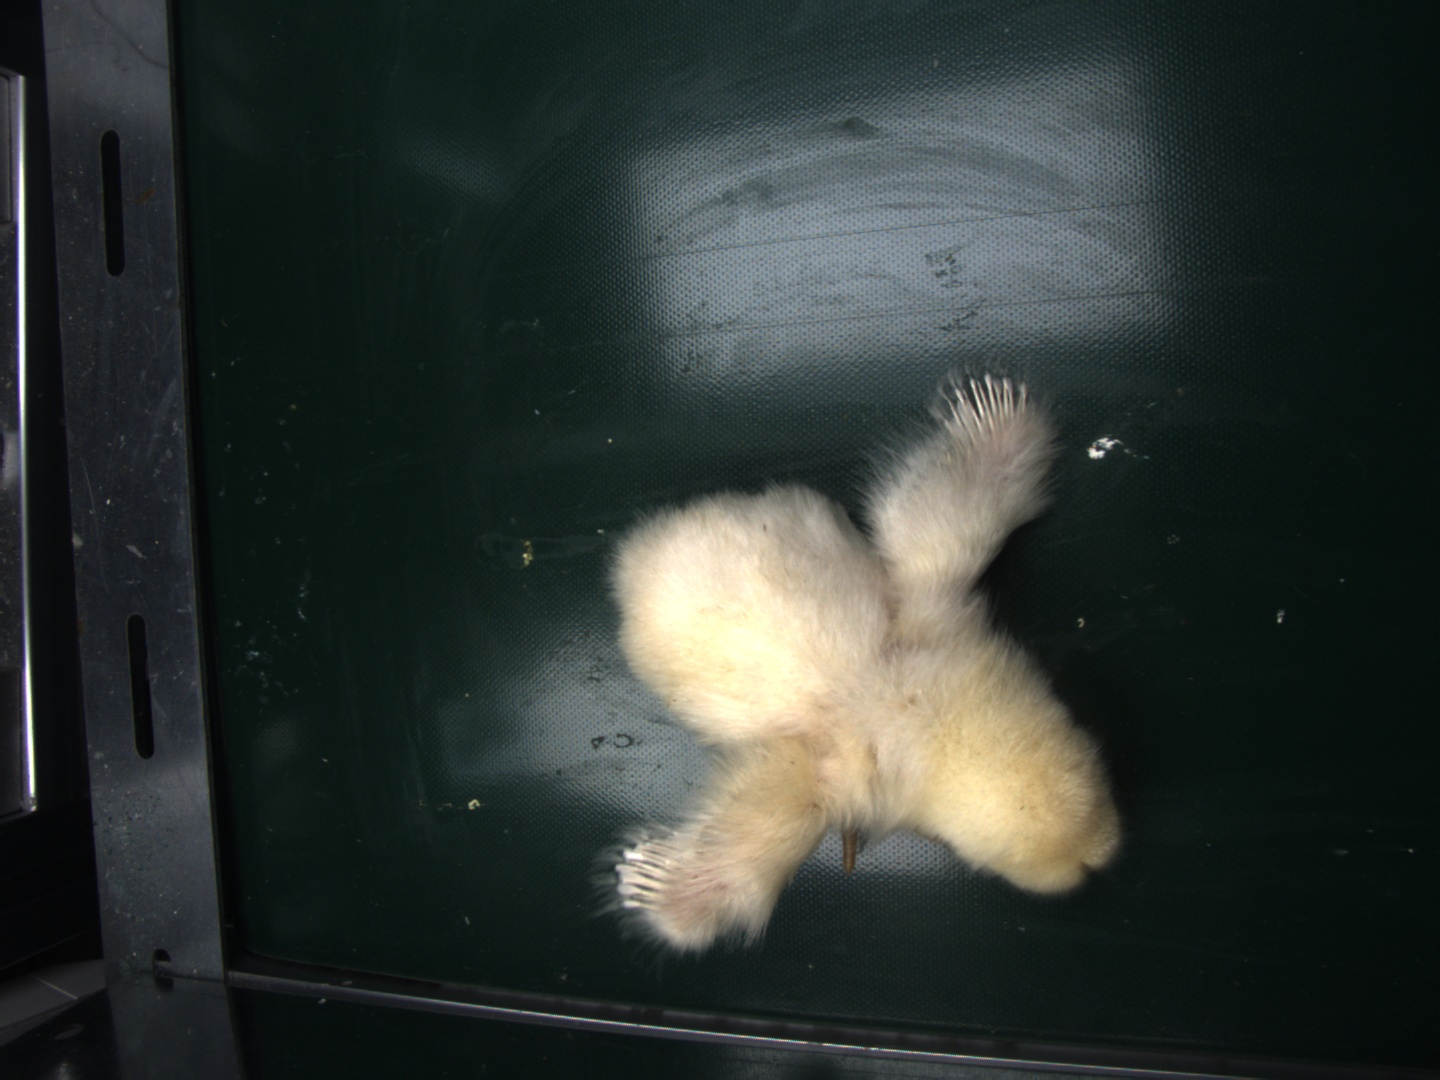male: (937, 373, 1024, 436), (630, 838, 680, 912)
